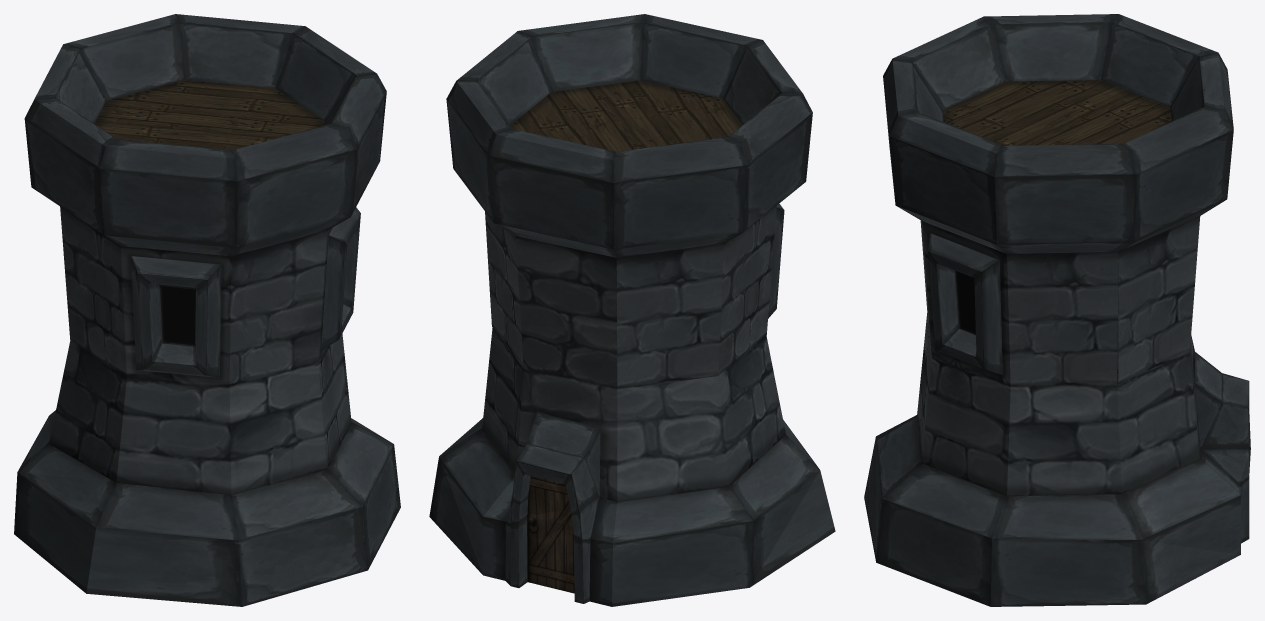
The model's file is cp_tower1_B.FBX.
3 views of the same model, side by side, from view 1: azimuth 30°, elevation 25°; view 2: azimuth 150°, elevation 25°; view 3: azimuth 270°, elevation 25° (orthographic).
Visible parts, largest first — view 1: tower1_B; view 2: tower1_B; view 3: tower1_B.
Part boxes in pixels (x1=…): tower1_B: x1=14, y1=14, x2=400, y2=606; tower1_B: x1=429, y1=14, x2=835, y2=606; tower1_B: x1=864, y1=14, x2=1250, y2=606.
Bounding box in the file's own units: 41.09 × 52.76 × 41.78.
